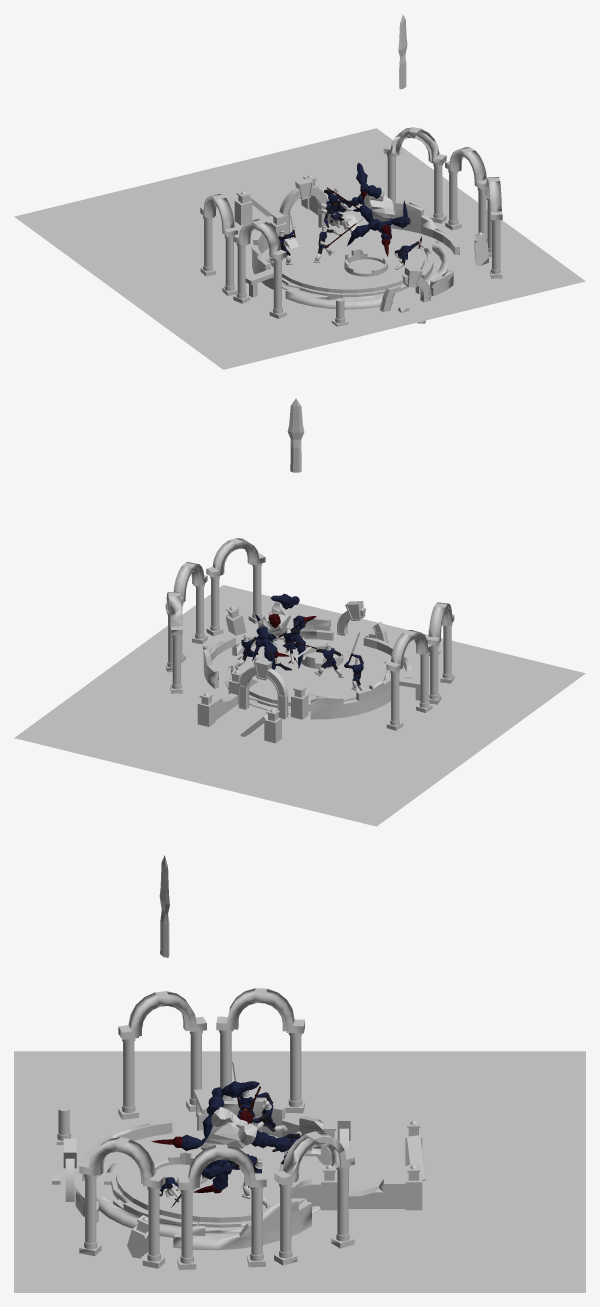
The picture shows the model from 3 angles, top to bottom: view 1: azimuth 30°, elevation 25°; view 2: azimuth 150°, elevation 25°; view 3: azimuth 270°, elevation 25°; orthographic projection. The views are drawn at different scales.
Parts seen in each view (by area): view 1: Plane, Ruins_Platform_mesh_Platform_10928Platform, Pillars_mesh_Arches_11222Arches.006, Arches_mesh_Arches_11222Arches, Ruins_Outer_mesh_Platform_10928Platform.002, Entrance_mesh_Entrance_11062Entrance, Monster_Upper_Torso_Armor_Cylinder.002, Ruins_Inner_mesh_Platform_10928Platform.001, Tip_Cylinder.001; view 2: Plane, Ruins_Platform_mesh_Platform_10928Platform, Entrance_mesh_Entrance_11062Entrance, Pillars_mesh_Arches_11222Arches.006, Ruins_Outer_mesh_Platform_10928Platform.002, Arches_mesh_Arches_11222Arches, Tip_Cylinder.001, Monster_Upper_Torso_Armor_Cylinder.002; view 3: Plane, Pillars_mesh_Arches_11222Arches.006, Arches_mesh_Arches_11222Arches, Ruins_Platform_mesh_Platform_10928Platform, Entrance_mesh_Entrance_11062Entrance, Ruins_Outer_mesh_Platform_10928Platform.002, Monster_Upper_Torso_Armor_Cylinder.002, Tip_Cylinder.001.
Boxes of the visible parts, x1=… form: Plane: x1=14, y1=128, x2=585, y2=369; Ruins_Platform_mesh_Platform_10928Platform: x1=264, y1=225, x2=433, y2=299; Pillars_mesh_Arches_11222Arches.006: x1=200, y1=154, x2=502, y2=326; Arches_mesh_Arches_11222Arches: x1=200, y1=127, x2=502, y2=260; Ruins_Outer_mesh_Platform_10928Platform.002: x1=245, y1=201, x2=459, y2=309; Entrance_mesh_Entrance_11062Entrance: x1=234, y1=174, x2=488, y2=323; Monster_Upper_Torso_Armor_Cylinder.002: x1=364, y1=189, x2=394, y2=221; Ruins_Inner_mesh_Platform_10928Platform.001: x1=344, y1=248, x2=387, y2=276; Tip_Cylinder.001: x1=398, y1=14, x2=407, y2=89; Plane: x1=14, y1=585, x2=585, y2=826; Ruins_Platform_mesh_Platform_10928Platform: x1=225, y1=631, x2=390, y2=715; Entrance_mesh_Entrance_11062Entrance: x1=197, y1=601, x2=388, y2=743; Pillars_mesh_Arches_11222Arches.006: x1=166, y1=563, x2=454, y2=730; Ruins_Outer_mesh_Platform_10928Platform.002: x1=203, y1=617, x2=420, y2=719; Arches_mesh_Arches_11222Arches: x1=165, y1=538, x2=454, y2=672; Tip_Cylinder.001: x1=287, y1=398, x2=304, y2=472; Monster_Upper_Torso_Armor_Cylinder.002: x1=257, y1=602, x2=290, y2=636; Plane: x1=14, y1=1051, x2=585, y2=1292; Pillars_mesh_Arches_11222Arches.006: x1=56, y1=1030, x2=354, y2=1269; Arches_mesh_Arches_11222Arches: x1=79, y1=988, x2=354, y2=1189; Ruins_Platform_mesh_Platform_10928Platform: x1=104, y1=1130, x2=324, y2=1233; Entrance_mesh_Entrance_11062Entrance: x1=52, y1=1112, x2=425, y2=1258; Ruins_Outer_mesh_Platform_10928Platform.002: x1=75, y1=1089, x2=324, y2=1250; Monster_Upper_Torso_Armor_Cylinder.002: x1=200, y1=1107, x2=257, y2=1150; Tip_Cylinder.001: x1=159, y1=855, x2=169, y2=957.
Bounding box in the file's own units: 109 × 80.41 × 109.
